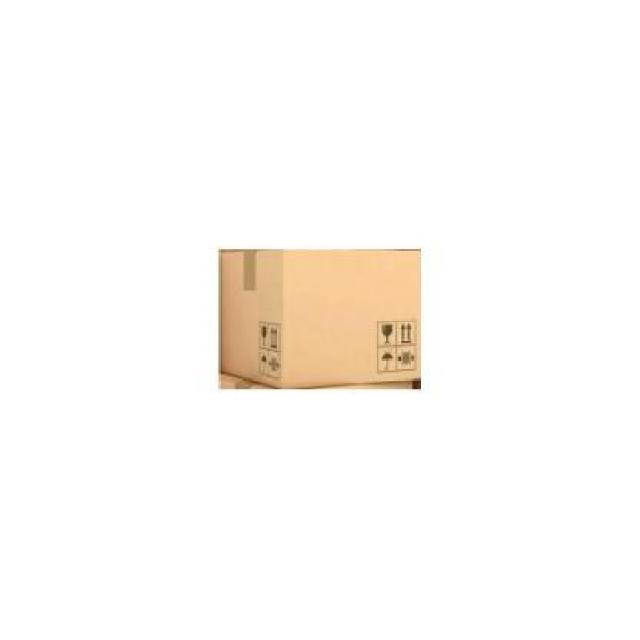box: (221, 247, 423, 386)
